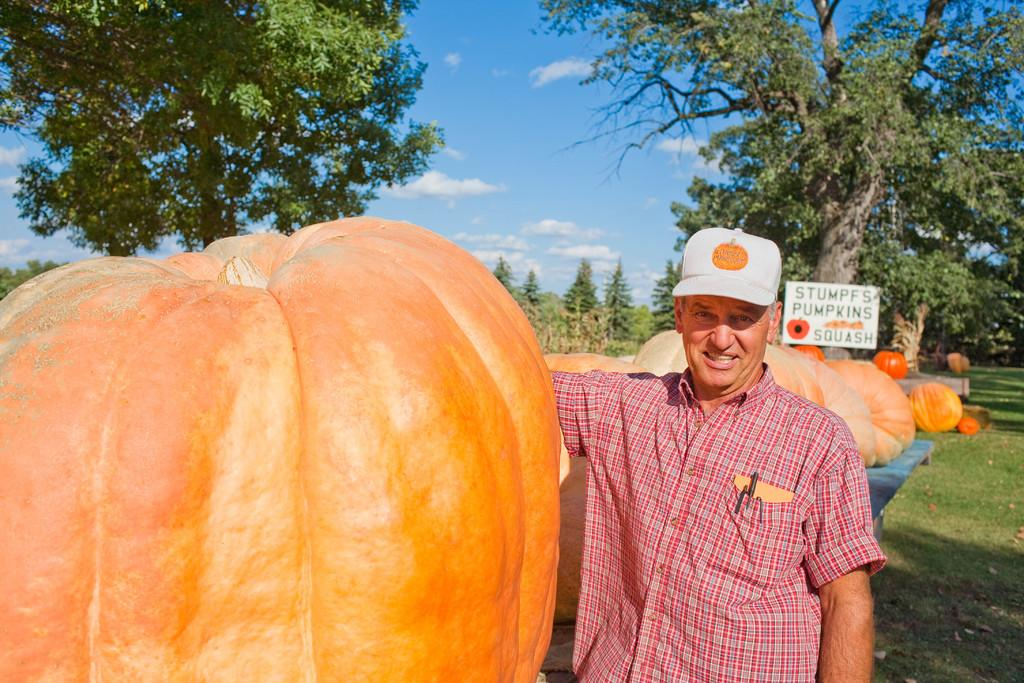Hat: (670, 227, 778, 307)
